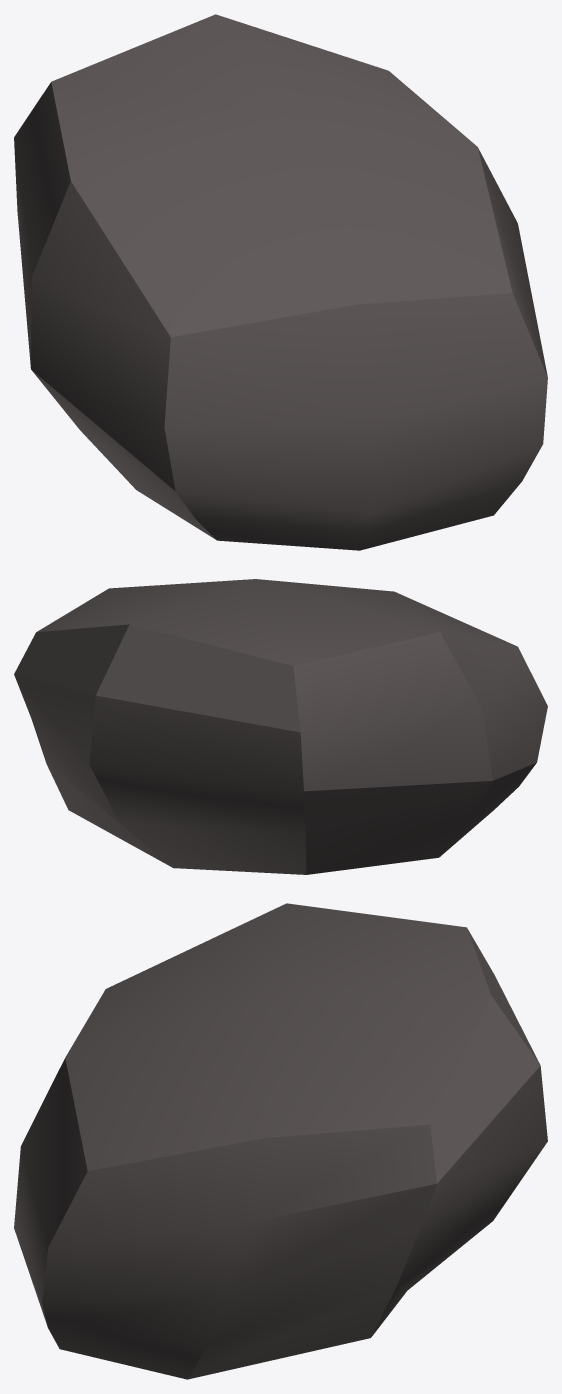
The model's file is PedraMedia2.fbx.
The picture shows the model from 3 angles, top to bottom: view 1: azimuth 30°, elevation 25°; view 2: azimuth 150°, elevation 25°; view 3: azimuth 270°, elevation 25°; orthographic projection. The views are drawn at different scales.
Visible parts, largest first — view 1: PedraMedia2; view 2: PedraMedia2; view 3: PedraMedia2.
Part boxes in pixels (x1,y1,x2,y2): PedraMedia2: (14,14,547,550); PedraMedia2: (14,579,547,874); PedraMedia2: (14,903,547,1379).
Bounding box in the file's own units: 0.4252 × 0.2968 × 0.4354.
